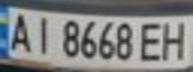6: (78, 18, 100, 61), (97, 18, 118, 61)
8: (115, 19, 139, 62), (57, 17, 81, 59)
A: (3, 10, 36, 53)
E: (136, 19, 166, 62)
H: (157, 18, 190, 61)
I: (27, 13, 57, 55)
